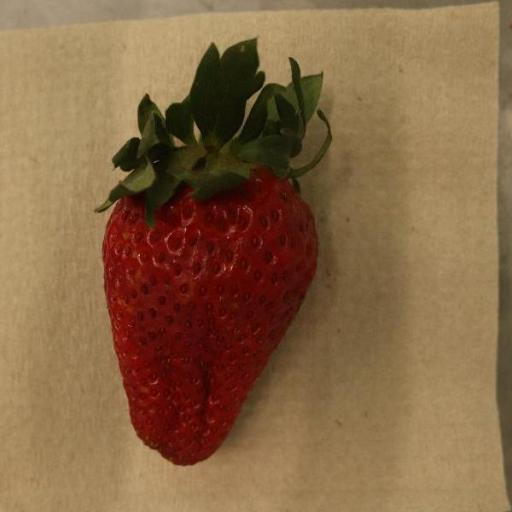Strawberry: (94, 38, 324, 468)
